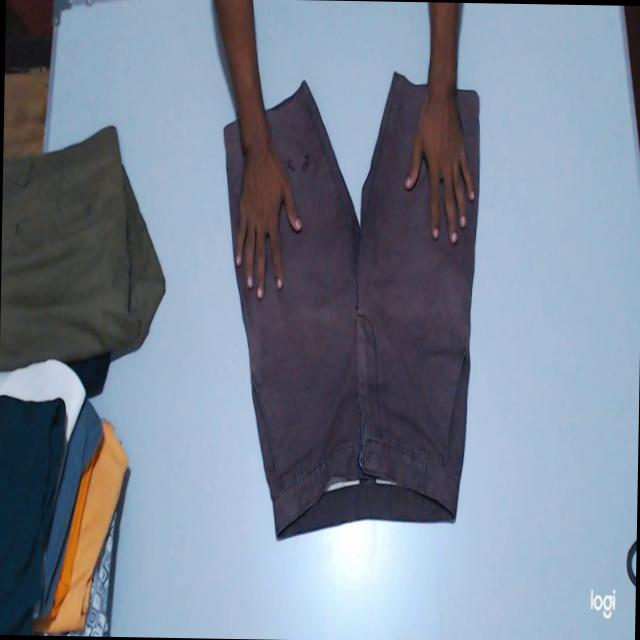new-garment: (235, 74, 476, 539), (224, 121, 249, 245)
